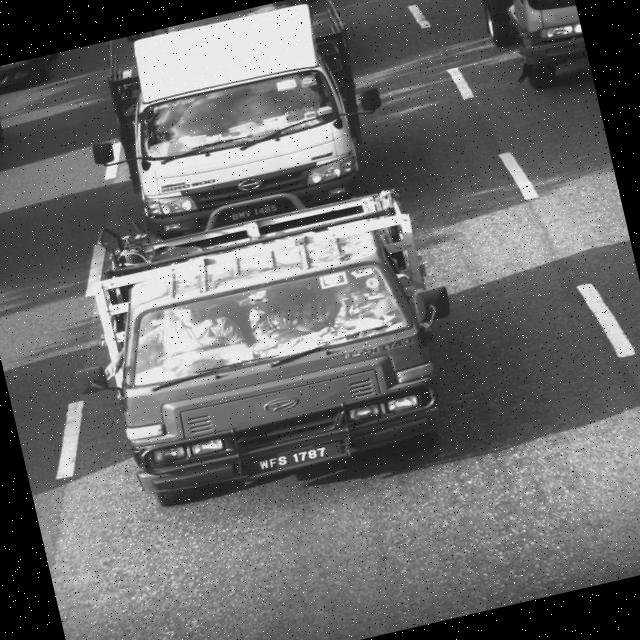License_Plate: (237, 427, 351, 483)
lorry: (65, 154, 468, 522)
